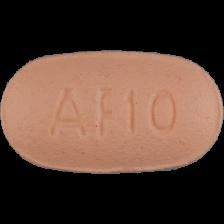60505-2518: (0, 0, 224, 224)
